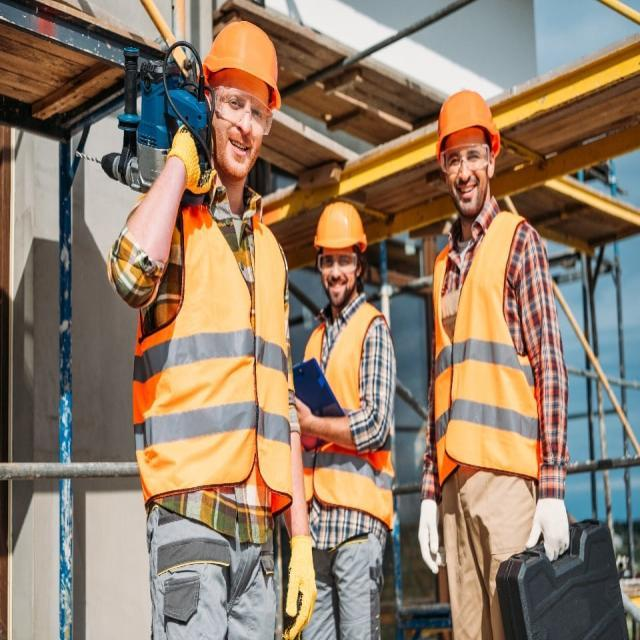red helmet: (204, 20, 286, 111), (433, 87, 505, 163), (312, 199, 371, 254)
